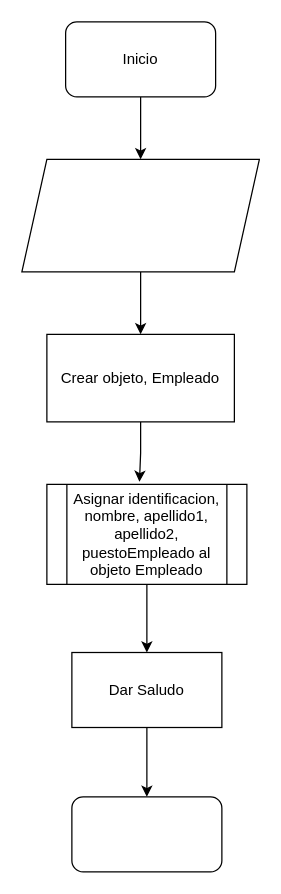
The diagram is 281 pixels wide and 894 high, and some of its shapes have lost their labels. The shapes that lost their labels are listed below. From the top down, each one's box as (x1, y1, x2, y2) in pixels, then its label:
(21, 158, 259, 272): Leer identificacion, nombre, apellido1, apellido2, puestoEmpleado
(71, 796, 222, 872): Fin
